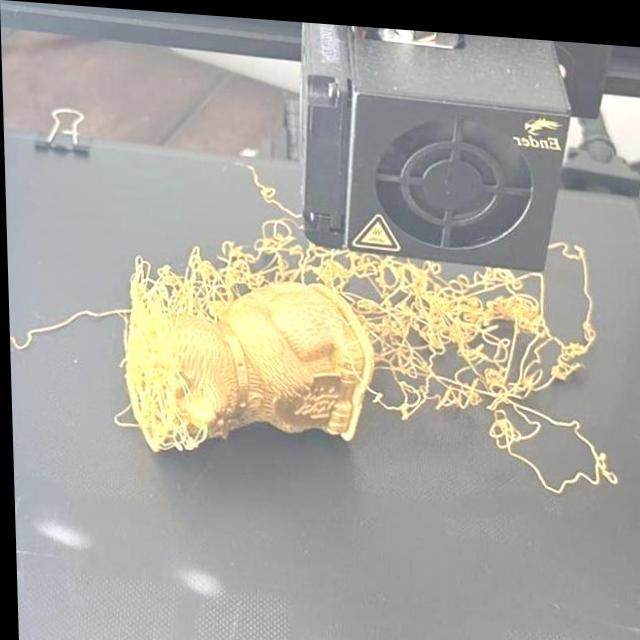spaghetti: (378, 259, 507, 348), (179, 236, 269, 312), (379, 317, 450, 412), (440, 335, 512, 409), (528, 324, 592, 378), (481, 391, 522, 449), (539, 454, 607, 486), (576, 236, 598, 331)
